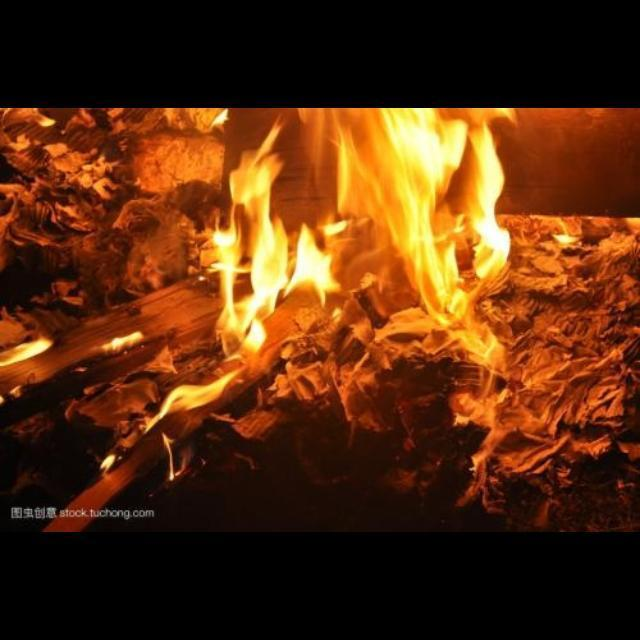Fire: (98, 110, 516, 482), (2, 335, 52, 369), (552, 231, 580, 243)
